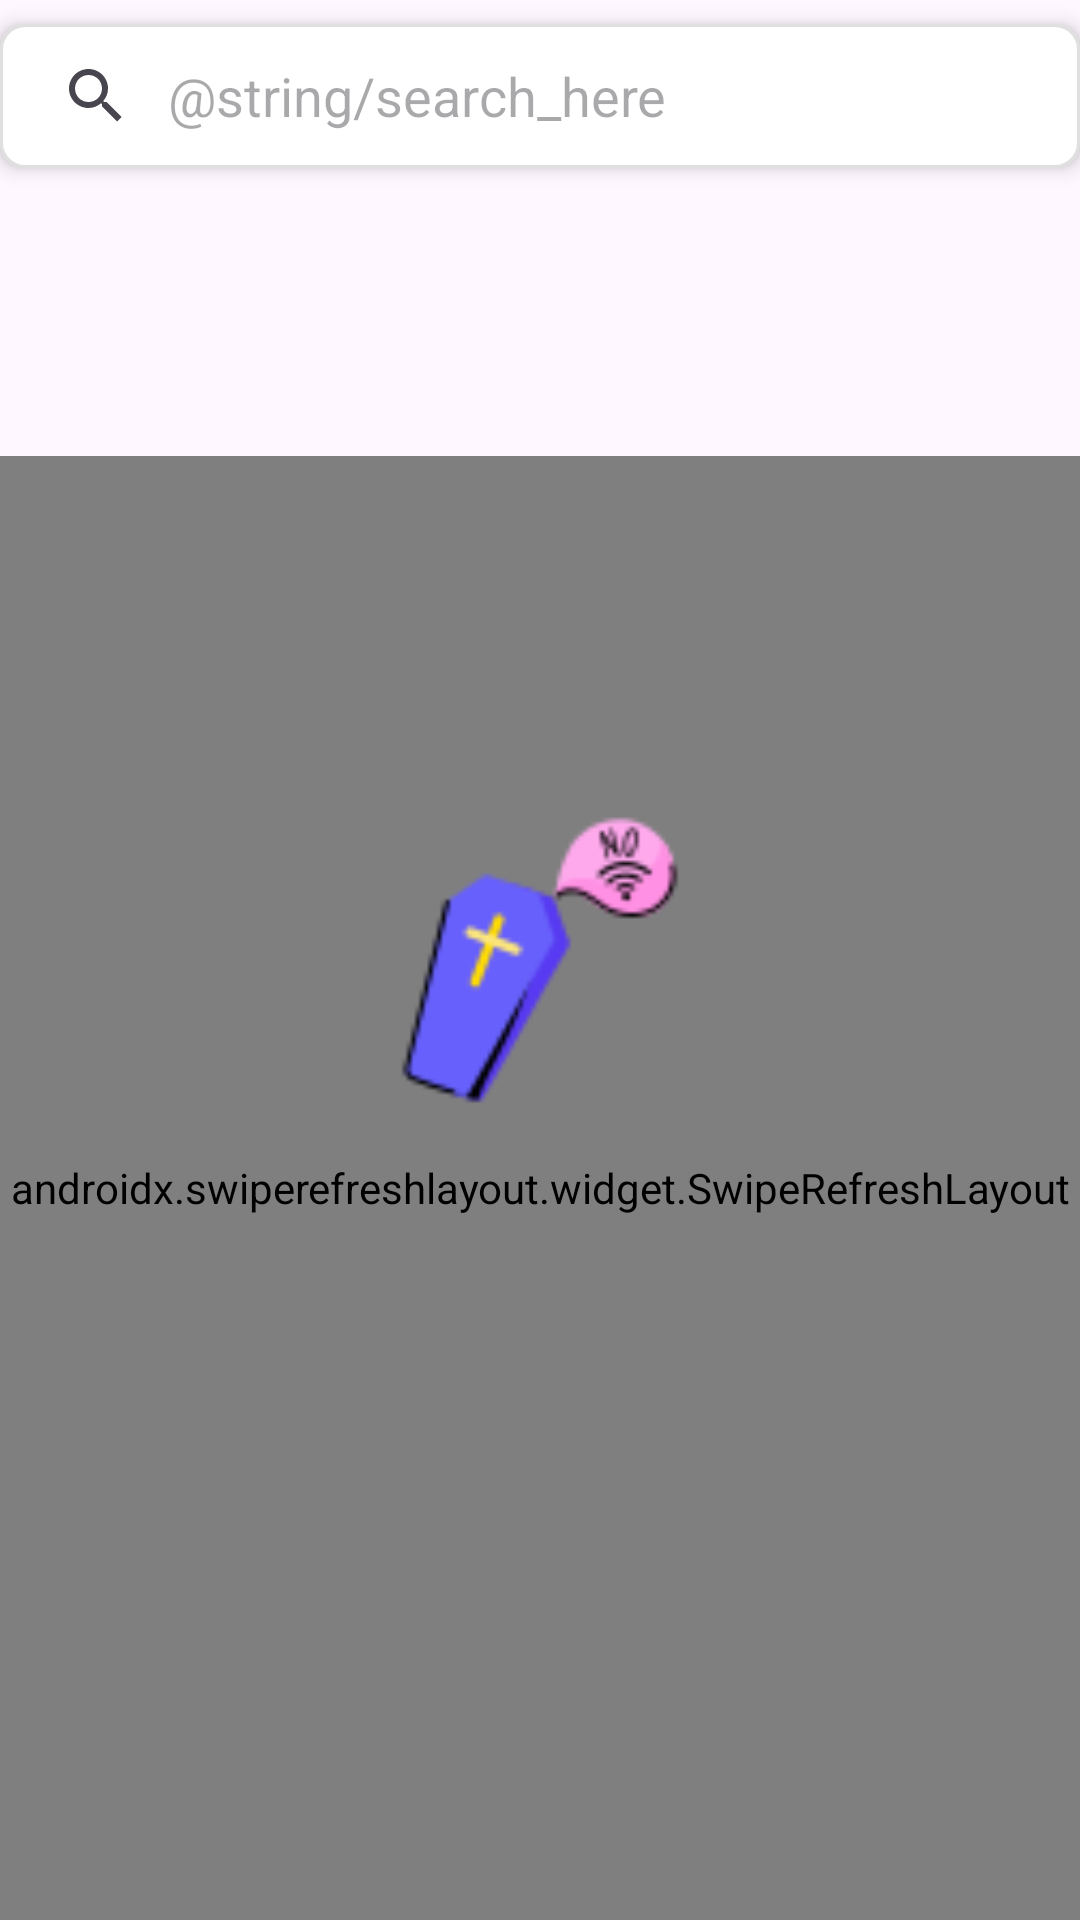

Screen size 1080w x 1920h. Icon name, then its center in pixels as [x,y]:
no internet: [540,960]
